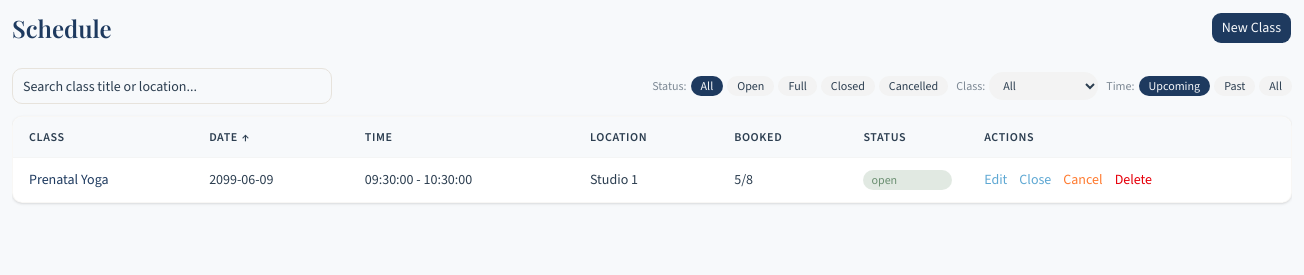
/admin/schedule › says on the page why a class could not be closed
This screenshot has width=1304, height=275.
Expected: the cell "Prenatal Yoga" is shown, [13, 158, 193, 202]
Click the button "Close" at (1035, 180), box [1019, 170, 1051, 190]
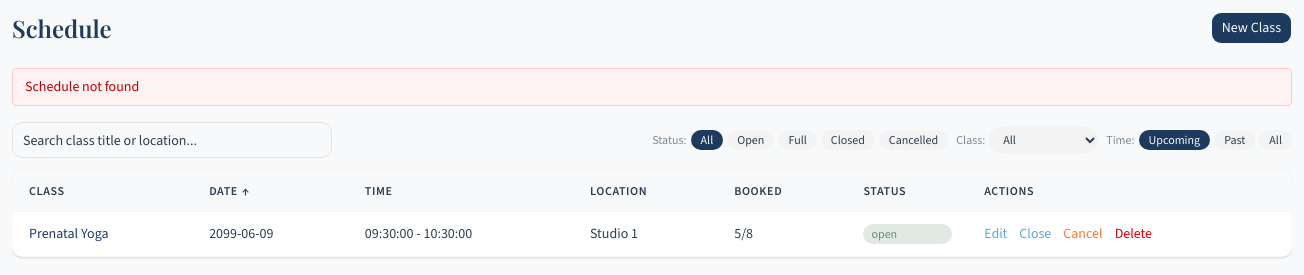
Now the message reads "Schedule not found", box [25, 77, 139, 96]
